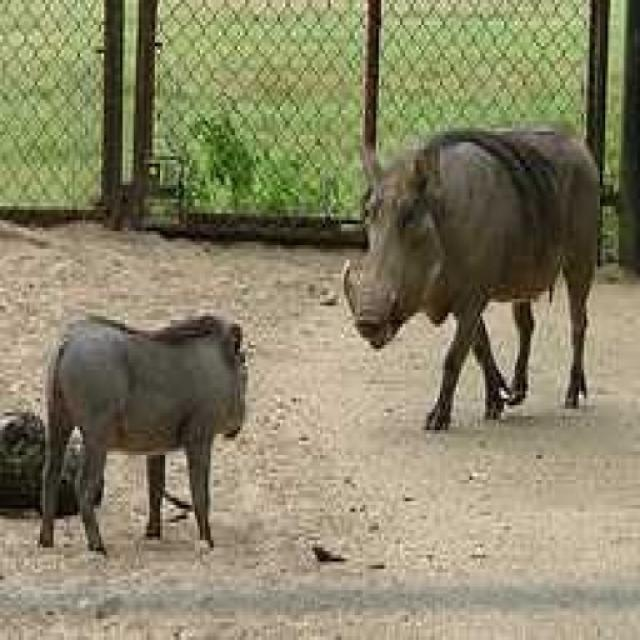pig: (320, 107, 640, 375), (31, 264, 254, 548)
